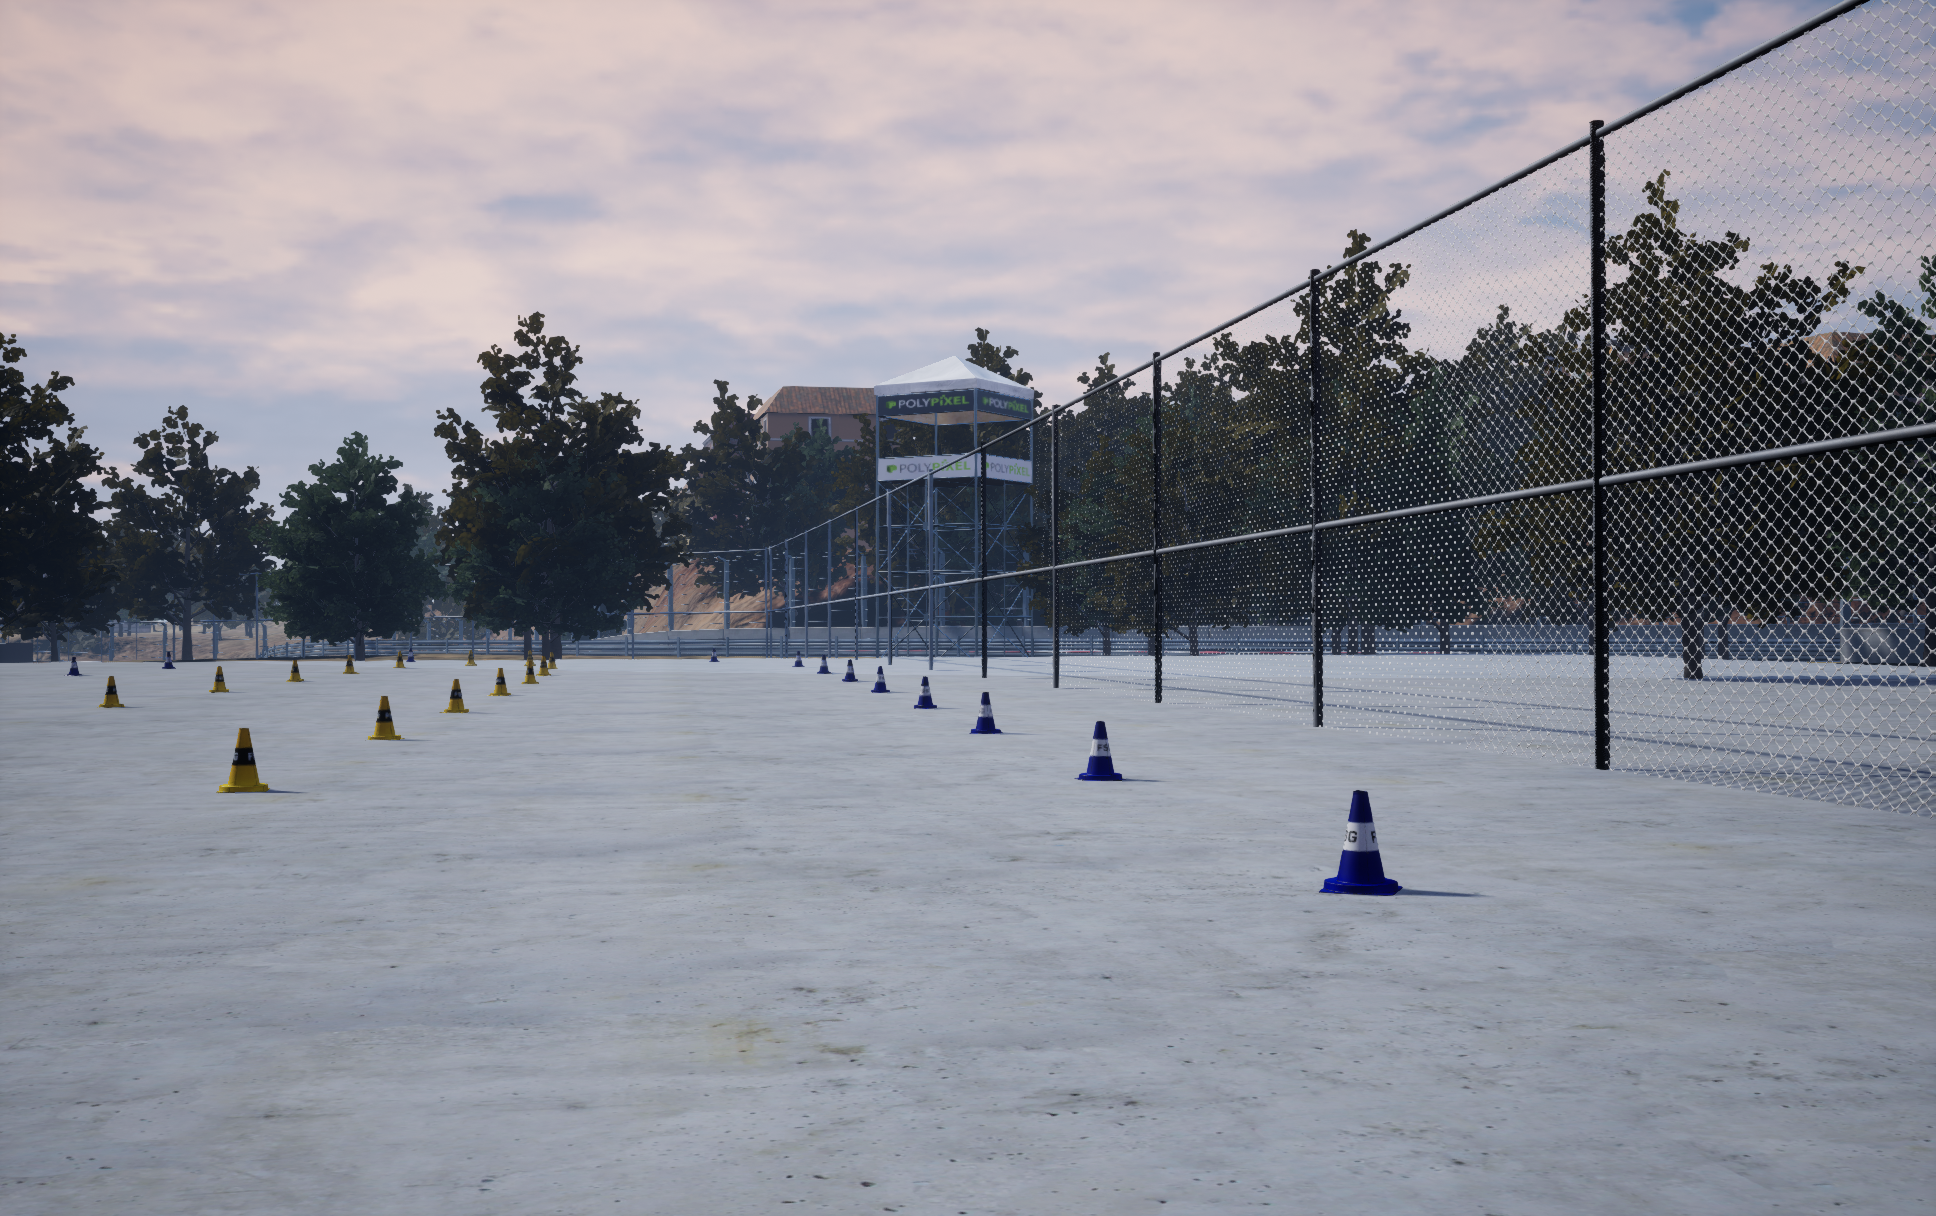blue: (216, 728, 269, 792), (366, 696, 403, 740), (438, 679, 468, 712), (97, 677, 125, 707), (488, 668, 510, 695), (209, 665, 228, 692), (521, 661, 538, 684), (286, 660, 303, 681), (537, 656, 551, 675), (343, 656, 359, 672)
yellow: (1320, 790, 1402, 895), (1074, 721, 1125, 780), (969, 692, 1002, 733), (913, 677, 936, 707), (871, 665, 890, 692), (842, 658, 857, 681), (817, 654, 831, 672)
